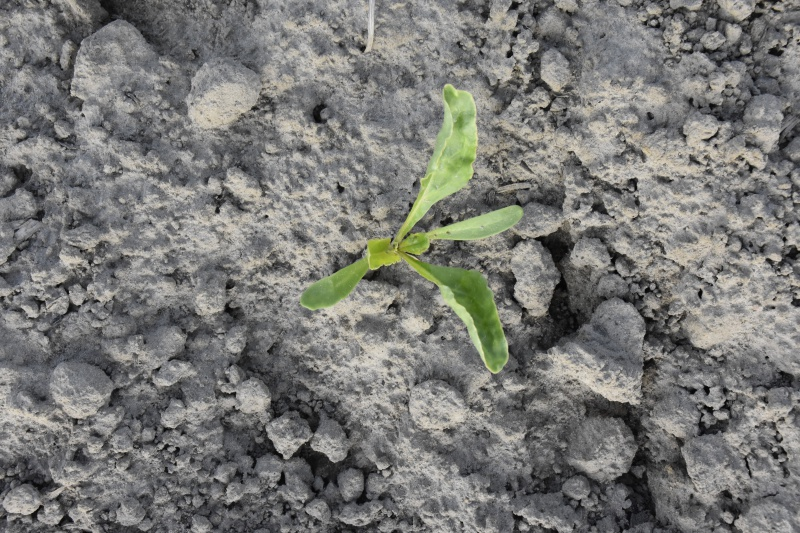sugar beet: (302, 82, 527, 379)
